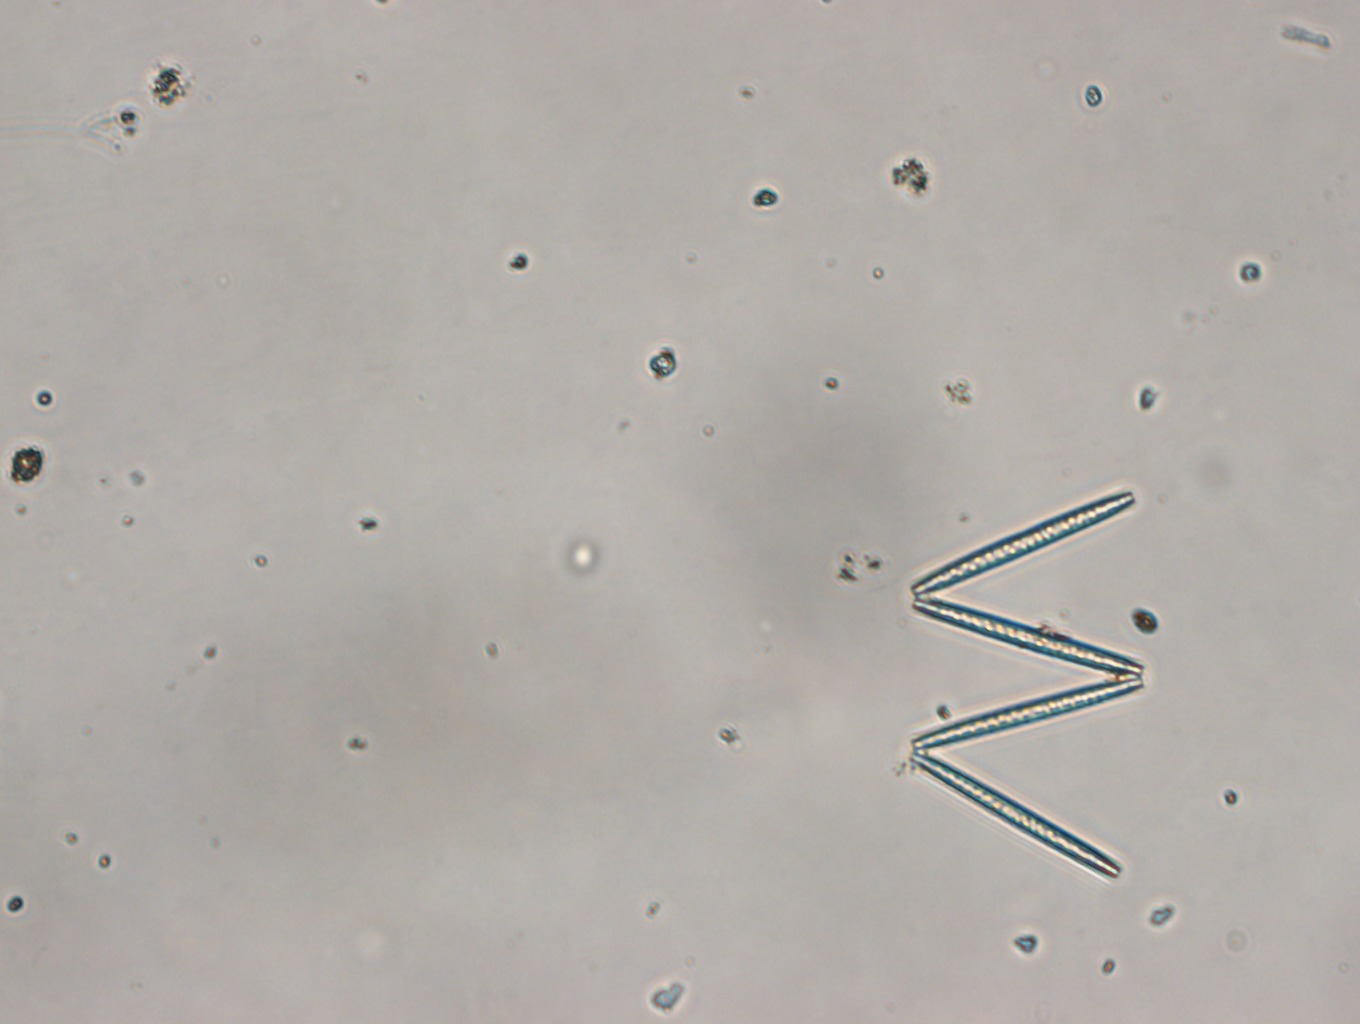thalassionema nitzschioides: (902, 470, 1153, 890)
